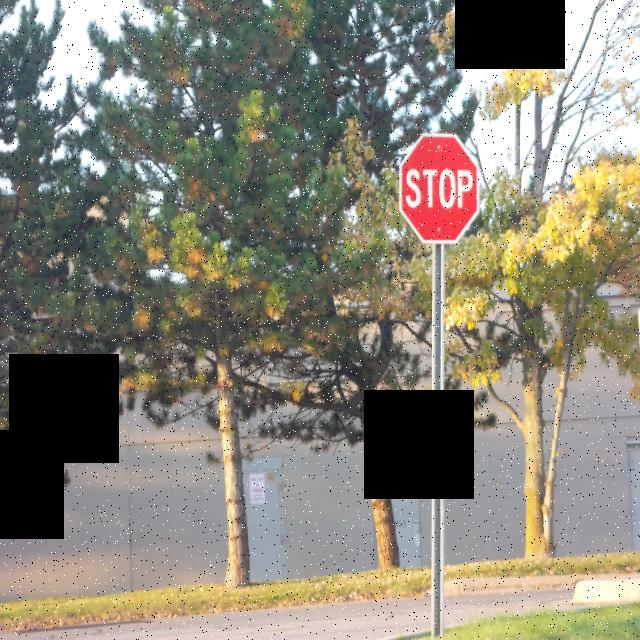stop: (399, 133, 481, 244)
